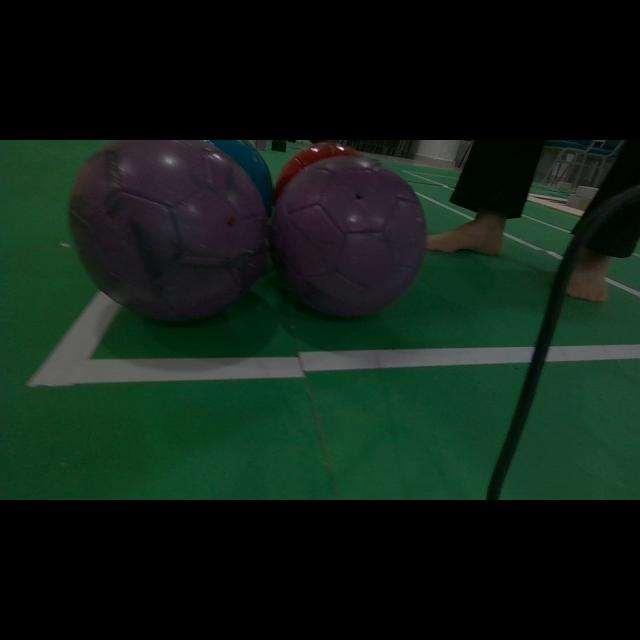B: (207, 140, 274, 217)
P: (69, 140, 269, 321), (271, 158, 425, 316)
R: (275, 142, 362, 201)
